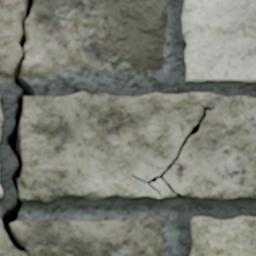brick: (19, 92, 255, 202), (182, 0, 255, 82), (191, 216, 255, 255), (153, 179, 174, 197), (0, 109, 2, 126)
broken_brick: (21, 0, 167, 77), (13, 216, 163, 255), (0, 0, 24, 78), (0, 227, 25, 255)
crack: (0, 0, 35, 255), (130, 102, 212, 197)
